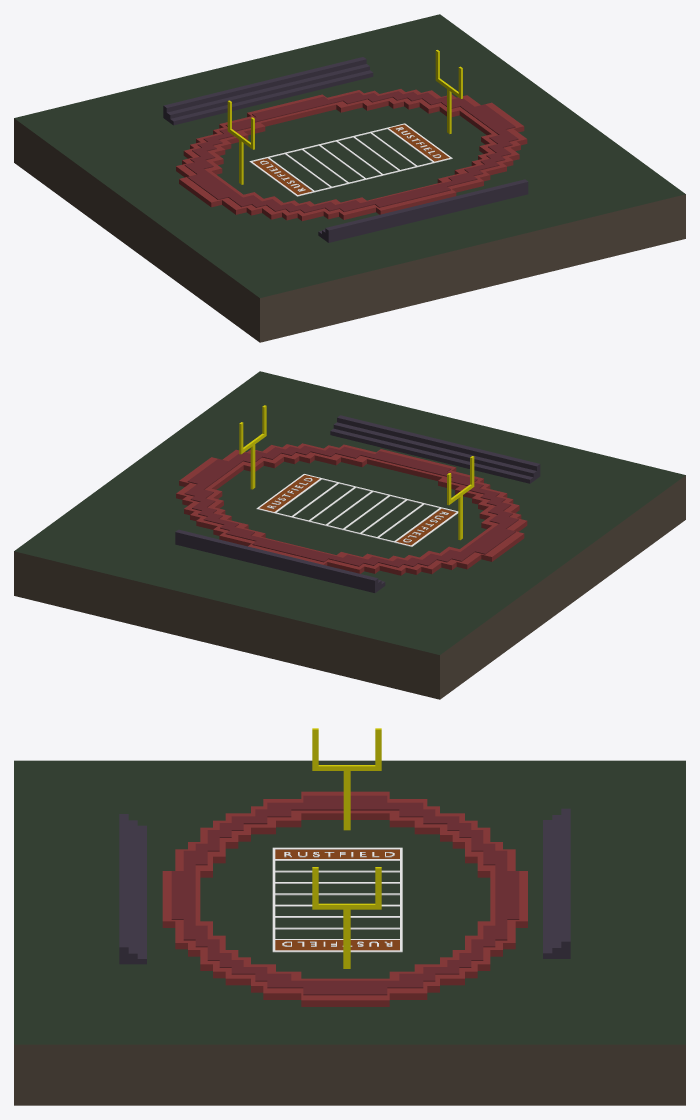
File: park-sports.glb
The picture shows the model from 3 angles, top to bottom: view 1: azimuth 30°, elevation 25°; view 2: azimuth 150°, elevation 25°; view 3: azimuth 270°, elevation 25°; orthographic projection. The views are drawn at different scales.
Parts seen in each view (by area): view 1: Windfarm.004; view 2: Windfarm.004; view 3: Windfarm.004.
Part boxes in pixels (left/top/right/bottom): Windfarm.004: left=14, top=14, right=685, bottom=342; Windfarm.004: left=14, top=371, right=685, bottom=699; Windfarm.004: left=14, top=728, right=685, bottom=1105.
Bounding box in the file's own units: 1 × 0.2654 × 1.
